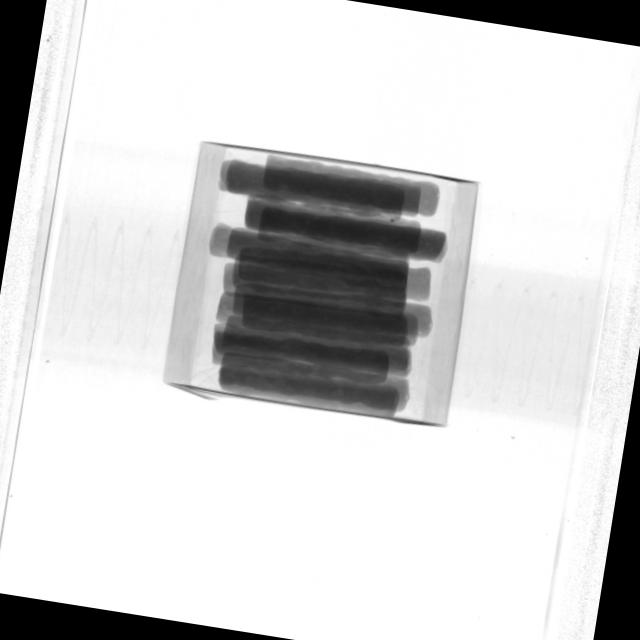ym: (391, 219, 396, 224)
